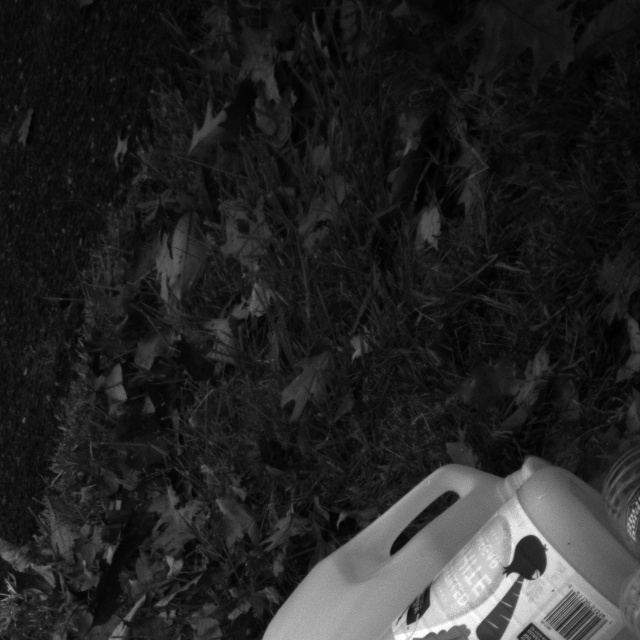can: (271, 441, 640, 640), (235, 447, 534, 640)
